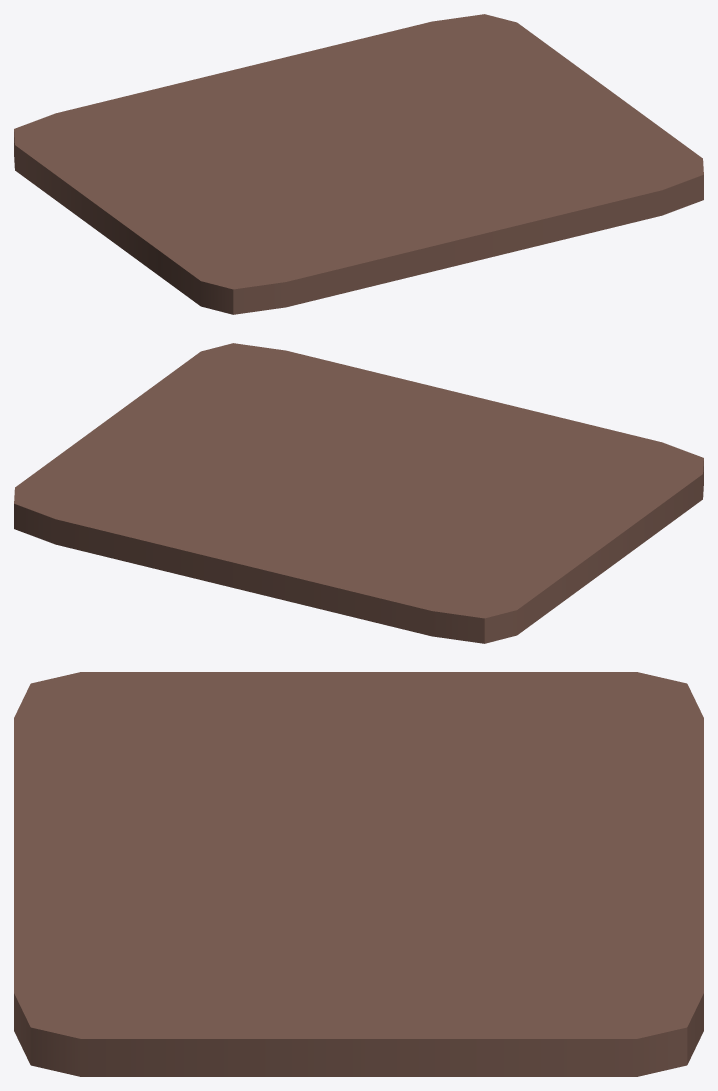
File: zhenban.fbx
The picture shows the model from 3 angles, top to bottom: view 1: azimuth 30°, elevation 25°; view 2: azimuth 150°, elevation 25°; view 3: azimuth 270°, elevation 25°; orthographic projection. The views are drawn at different scales.
Visible parts, largest first — view 1: 砧板; view 2: 砧板; view 3: 砧板.
Part boxes in pixels (x1=…): 砧板: x1=14, y1=14, x2=703, y2=314; 砧板: x1=14, y1=343, x2=703, y2=643; 砧板: x1=14, y1=672, x2=703, y2=1076.
Size of the model in its own units: 7.97 by 0.3851 by 6.33.
